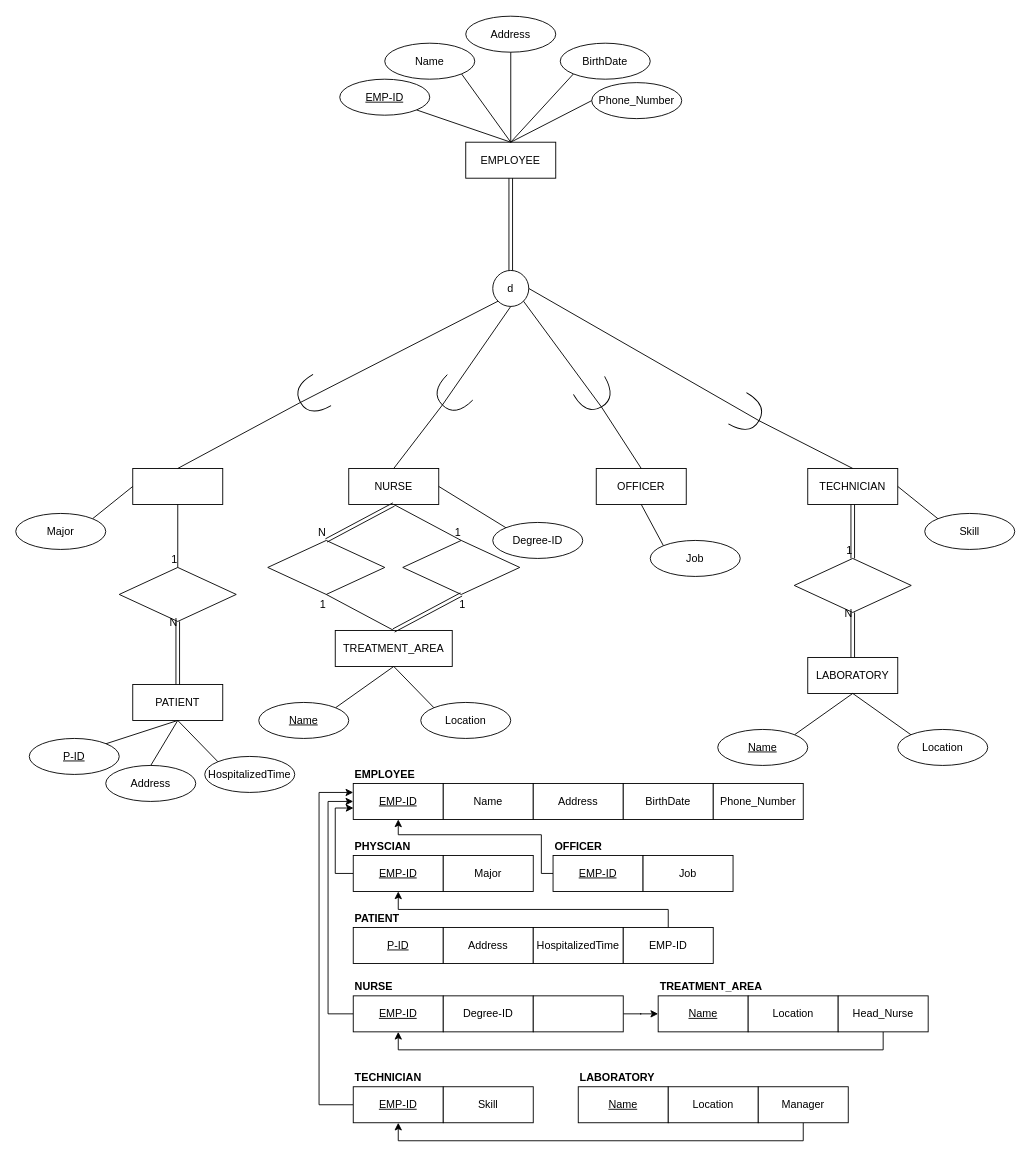
Image size: 1031x1164. Some labels were removed from this diagram. Each missing label, with the centre of its shape:
Area: (577,1013)
BE_ASIGNED_TO: (326,567)
BE_HEAD_OF: (461,567)
PHYSICIAN: (177,486)
SERVE: (852,585)
TAKE_CARE_OF: (177,594)
